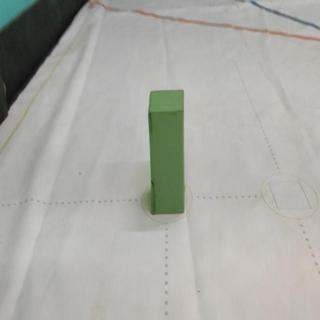greenbox: (147, 87, 186, 213)
